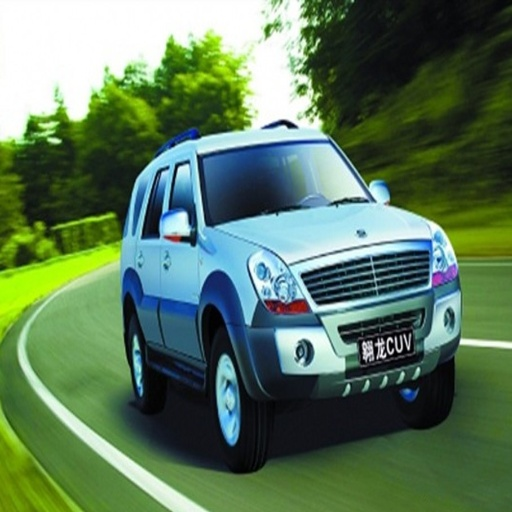_background_: (58, 468, 109, 503), (85, 435, 126, 476)
back_left_light: (135, 153, 169, 348), (26, 324, 76, 400)
back_right_light: (239, 241, 462, 396)
front_bumper: (198, 140, 373, 223)
front_left_door: (432, 236, 456, 279)
front_left_light: (157, 148, 199, 358)
front_right_door: (248, 248, 309, 314)
front_right_light: (218, 202, 438, 262)
trunk: (207, 314, 271, 471), (123, 278, 162, 410), (415, 380, 449, 424)
